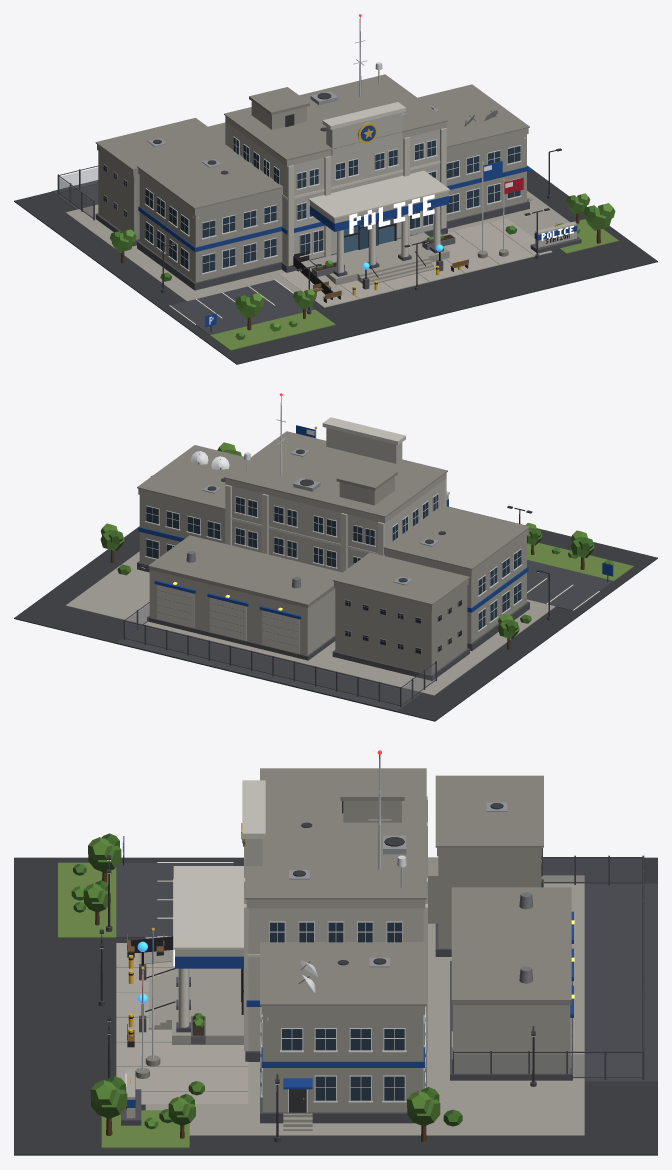
File: police_hq.glb
The picture shows the model from 3 angles, top to bottom: view 1: azimuth 30°, elevation 25°; view 2: azimuth 150°, elevation 25°; view 3: azimuth 270°, elevation 25°; orthographic projection. The views are drawn at different scales.
Visible parts, largest first — view 1: police-station, object 256, object 389, object 252, object 385; view 2: police-station, object 256, object 389, object 253, object 386; view 3: police-station, object 389, object 256, object 387.
Boxes of the visible parts, left/top/right/bottom form: police-station: left=14, top=14, right=657, bottom=364; object 256: left=137, top=144, right=283, bottom=209; object 389: left=417, top=84, right=529, bottom=147; object 252: left=195, top=188, right=282, bottom=215; object 385: left=446, top=128, right=528, bottom=153; police-station: left=14, top=393, right=657, bottom=721; object 256: left=383, top=505, right=529, bottom=569; object 389: left=137, top=445, right=246, bottom=509; object 253: left=384, top=548, right=472, bottom=575; object 386: left=138, top=489, right=225, bottom=515; police-station: left=14, top=750, right=657, bottom=1155; object 389: left=260, top=942, right=426, bottom=1005; object 256: left=260, top=768, right=426, bottom=784; object 387: left=261, top=1006, right=425, bottom=1014.
Bounding box in the file's own units: 48 × 21.45 × 44.
